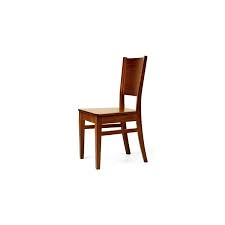tiyarina: (74, 49, 156, 170)
